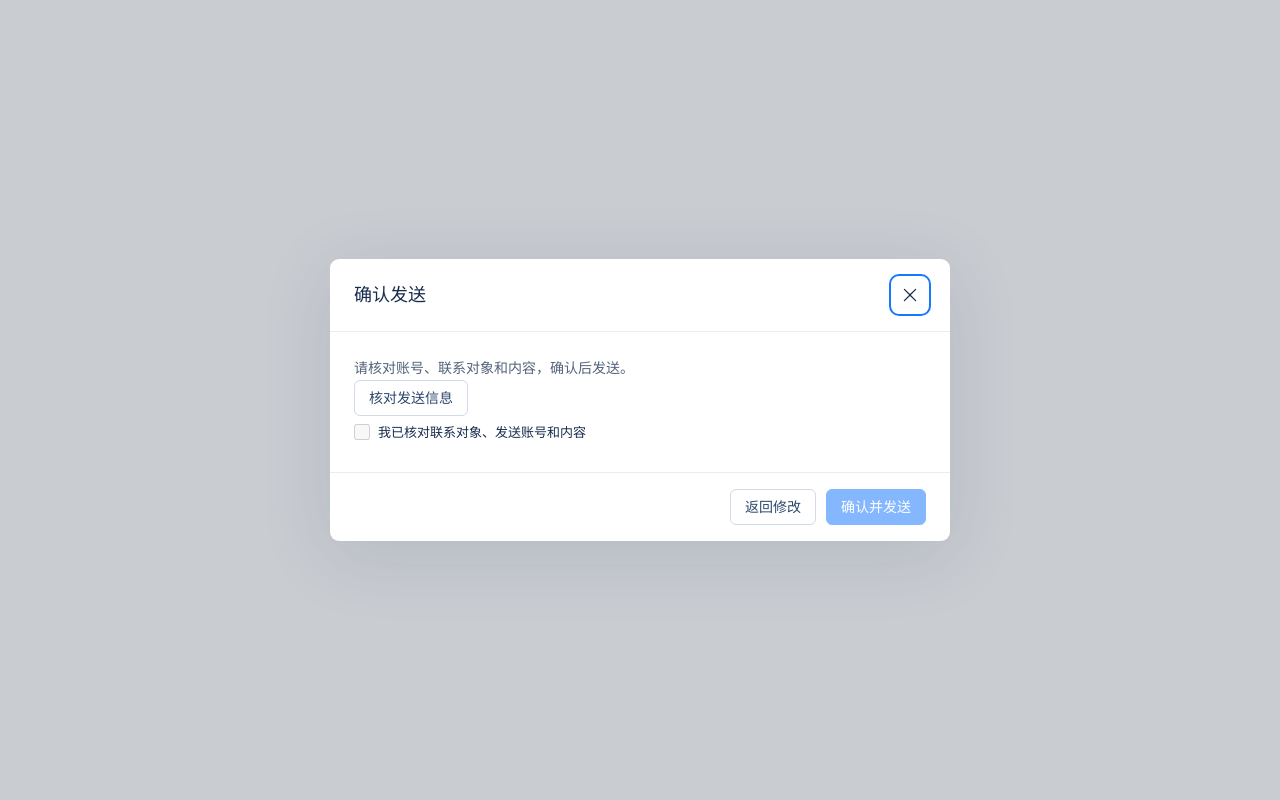
shows the native frozen context and durably reads back metadata before explicit CONFIRM, without the legacy sender
Step 1. Click the button "核对发送信息" → (411, 398), box [354,380,468,416]
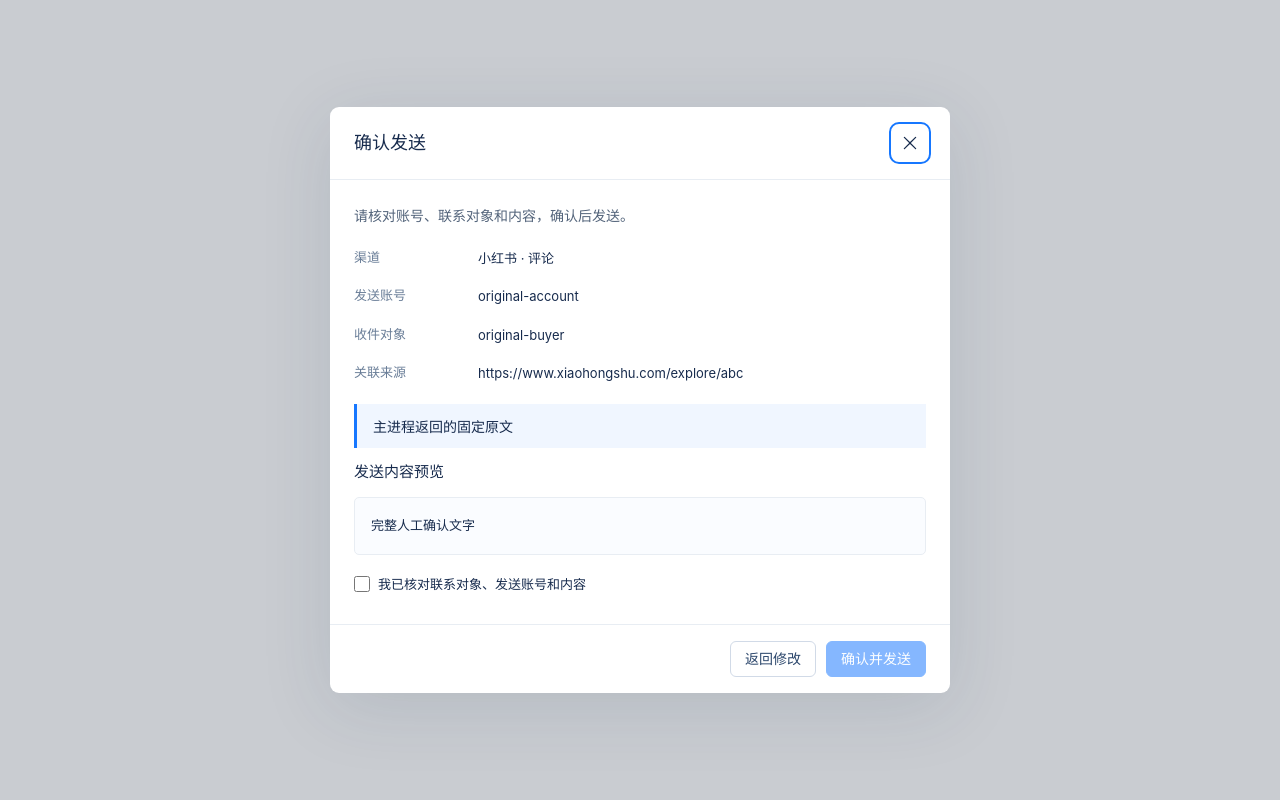
Expected: the text "主进程返回的固定原文" is shown, [354,404,926,448]
Expected: the text "original-account" is shown, [478,288,579,304]
Expected: the text "original-buyer" is shown, [478,326,564,342]
Step 2. Click the checkbox labelled "我已核对联系对象、发送账号和内容" → (362, 584), box [354,576,370,592]
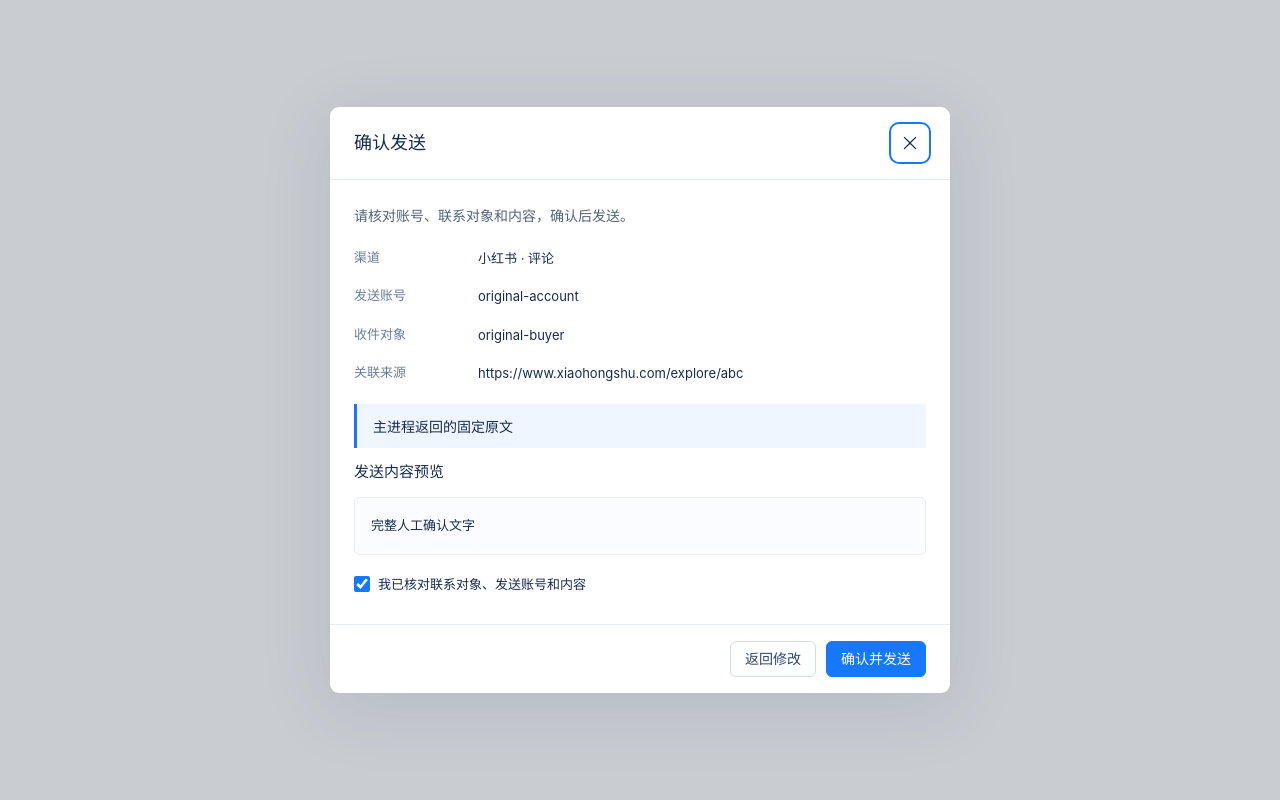
Step 3. Click the button "确认并发送" → (876, 659), box [826,641,926,677]
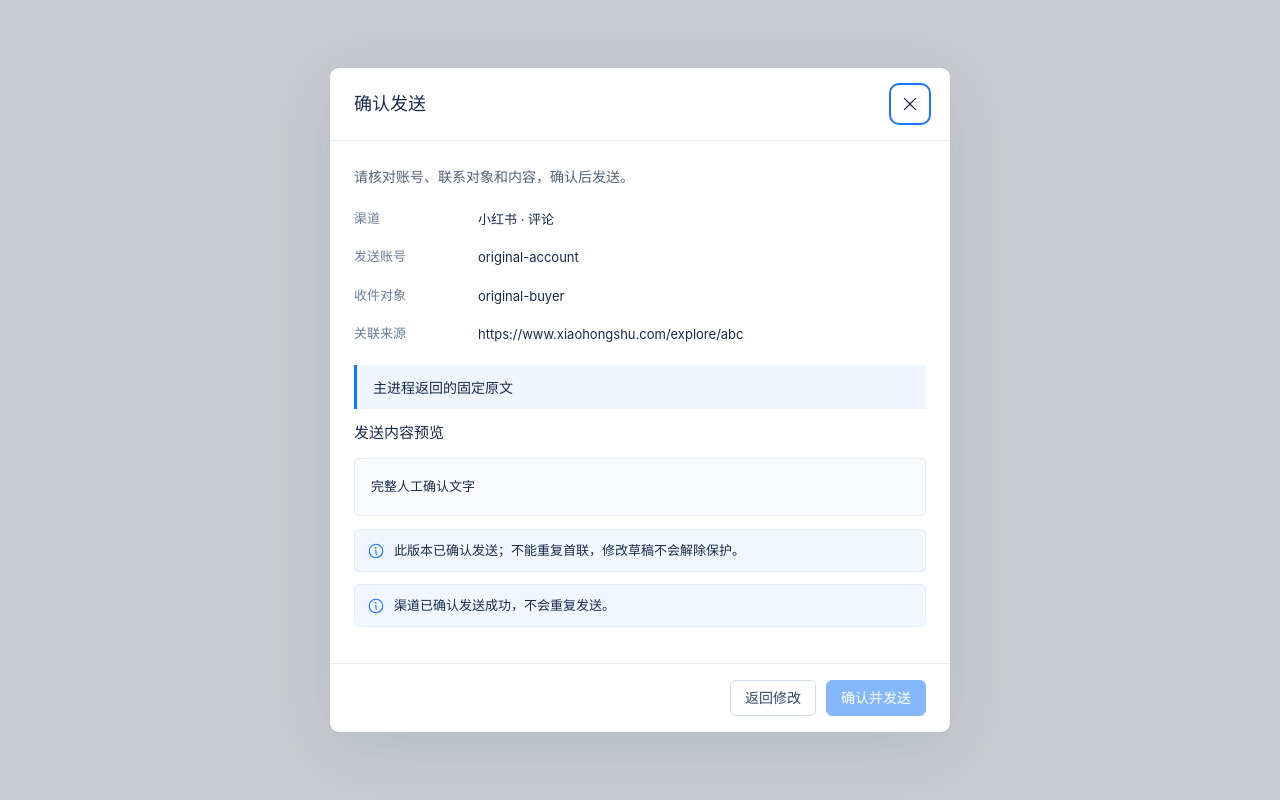
Expected: the text "渠道已确认发送成功，不会重复发送。" is shown, [394,597,615,613]
